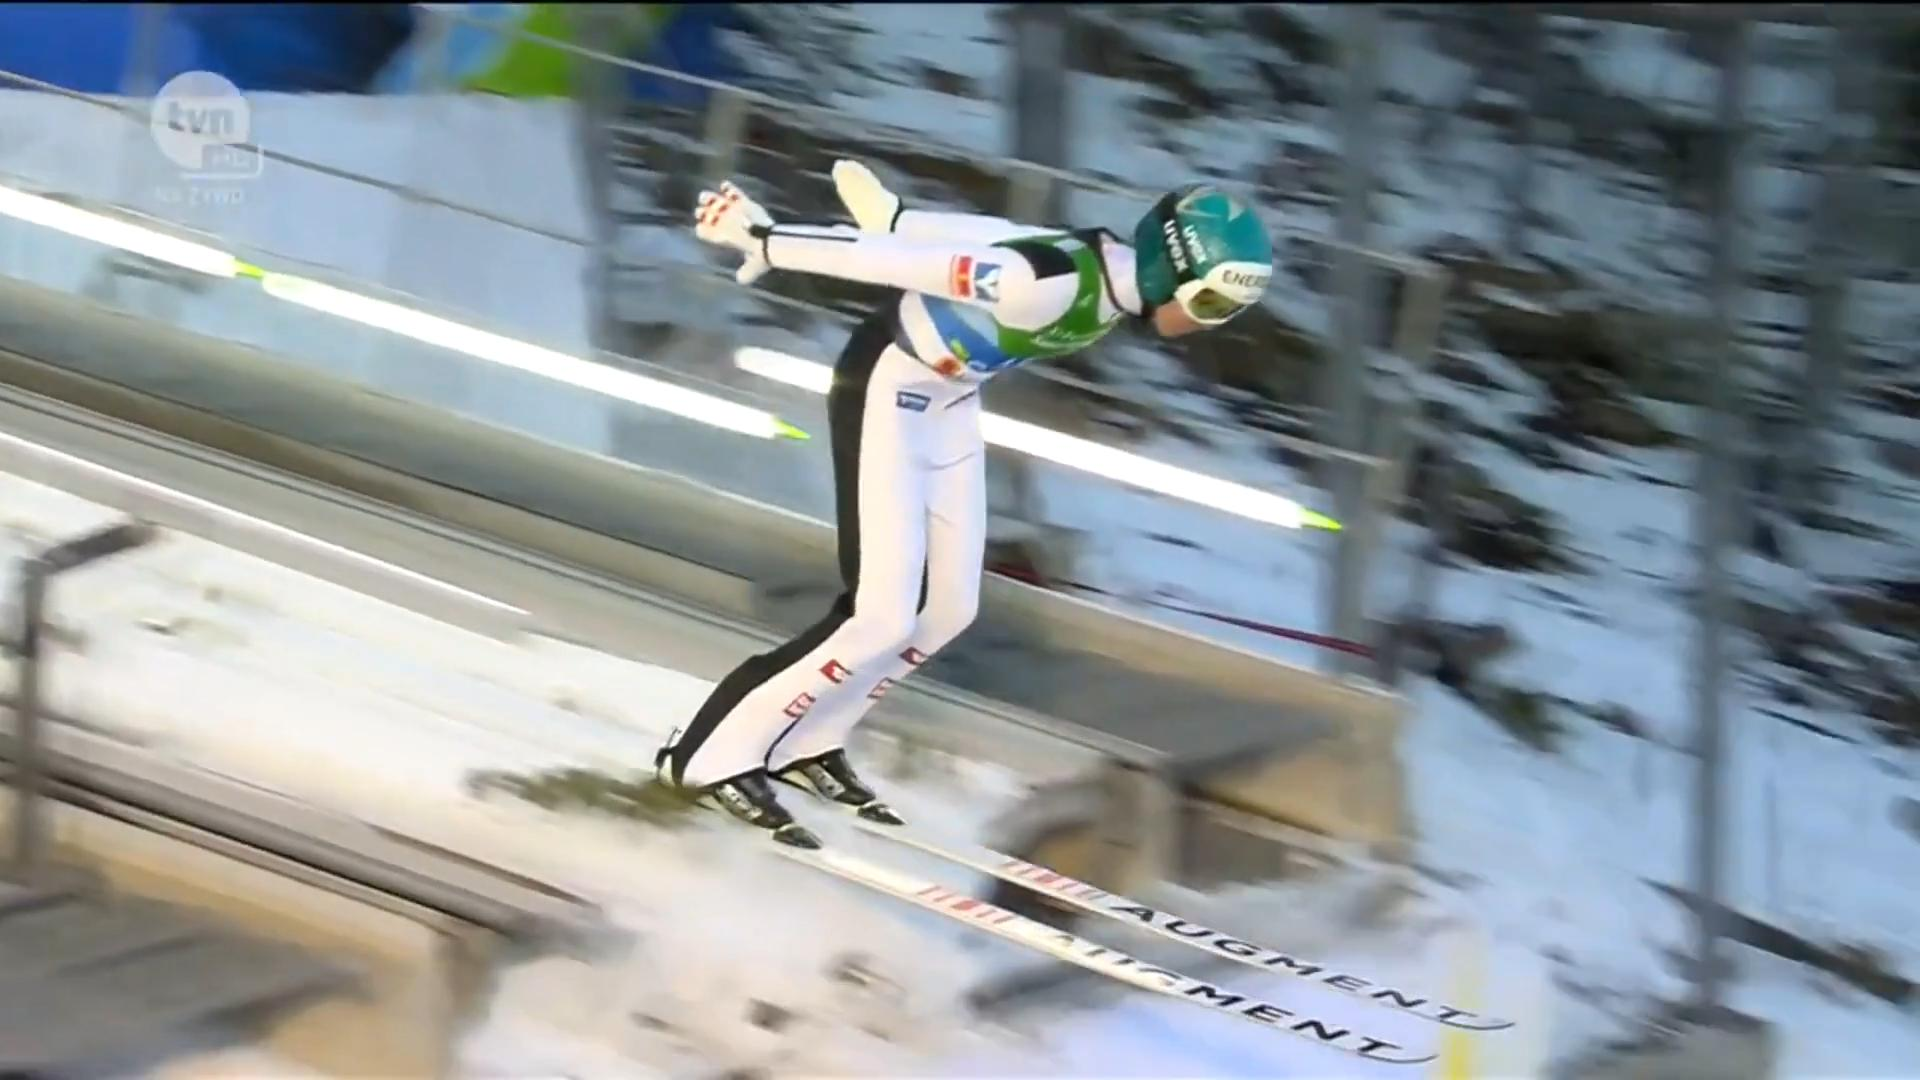prog: (1018, 724, 1333, 827)
